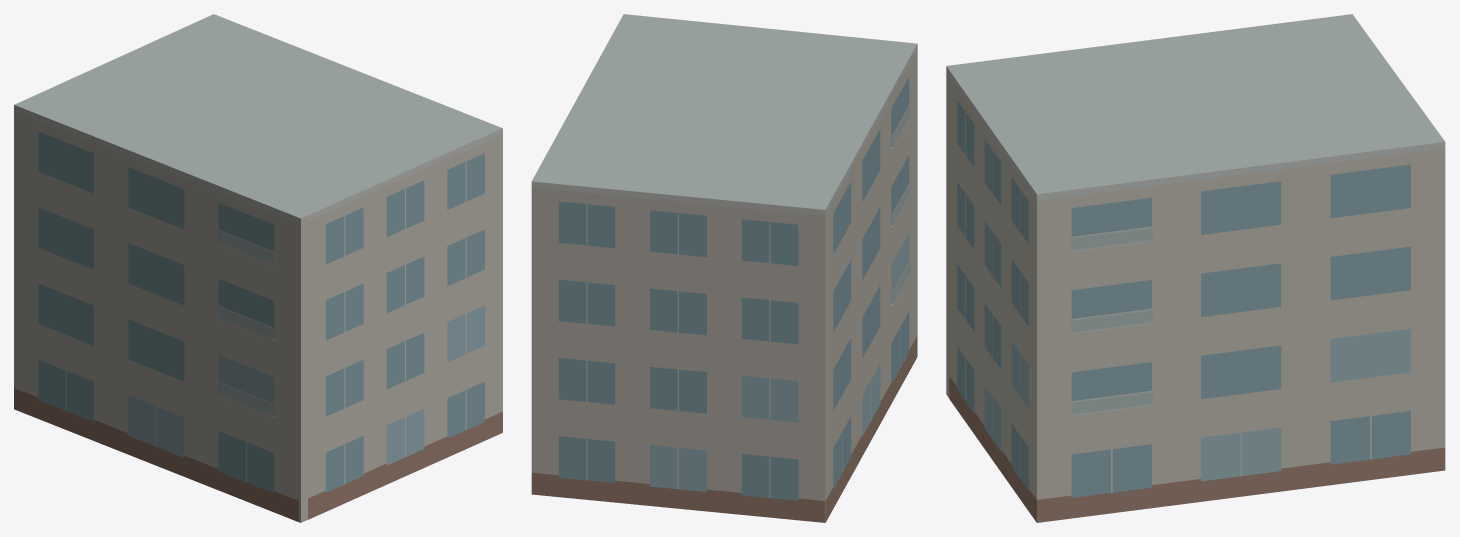
The model's file is survey-upis-32534680.glb.
3 views of the same model, side by side, from view 1: azimuth 30°, elevation 25°; view 2: azimuth 150°, elevation 25°; view 3: azimuth 270°, elevation 25° (orthographic). The views are drawn at different scales.
Parts seen in each view (by area): view 1: survey-upis-32534680.tmp; view 2: survey-upis-32534680.tmp; view 3: survey-upis-32534680.tmp.
Part boxes in pixels (left/top/right/bottom): survey-upis-32534680.tmp: left=14, top=14, right=502, bottom=522; survey-upis-32534680.tmp: left=531, top=14, right=917, bottom=522; survey-upis-32534680.tmp: left=946, top=14, right=1445, bottom=522.
Bounding box in the file's own units: 14.37 × 12.2 × 16.8.
